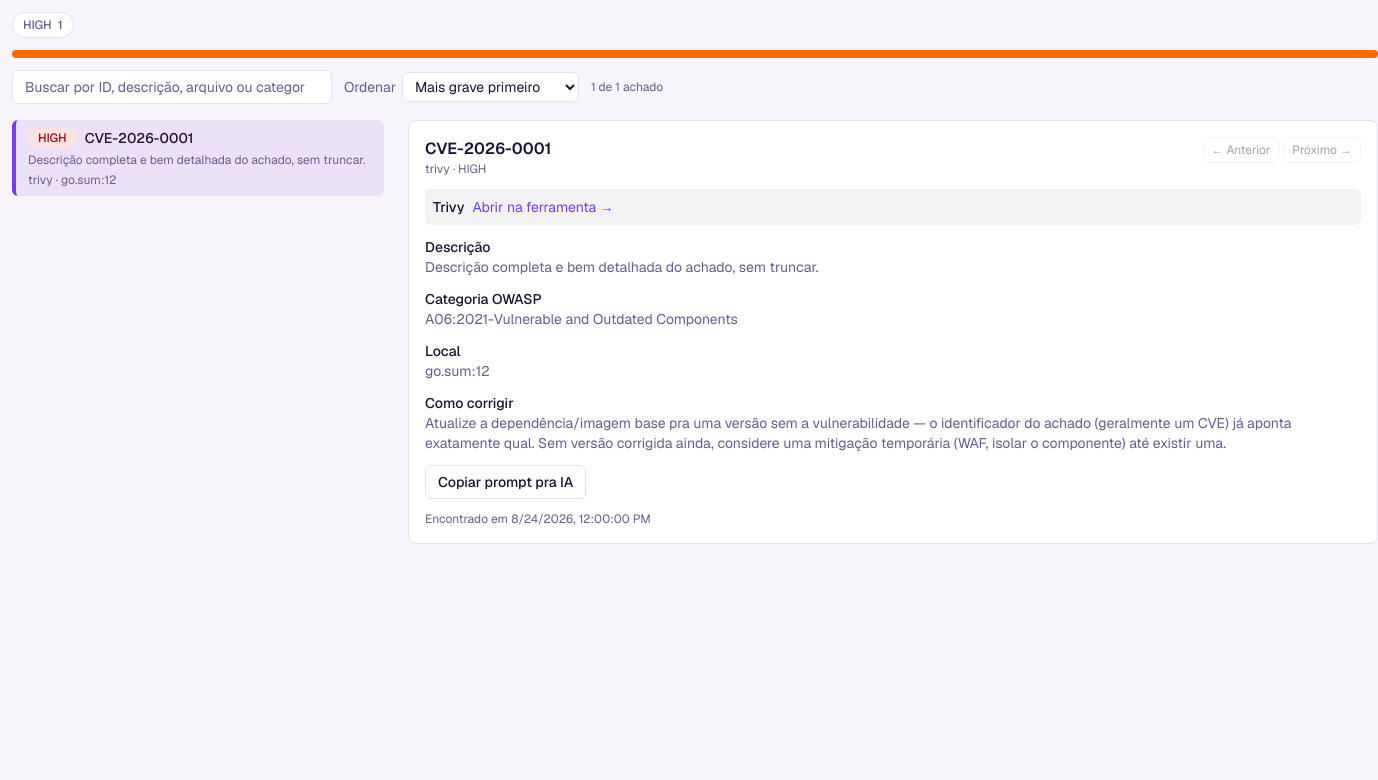
Test case: FindingsTable › Copiar prompt pra IA: falha na cópia mostra um toast de erro em vez de travar
The width and height of the screenshot is (1378, 780).
Expected: the text "Como corrigir" is shown, [425, 394, 514, 412]
Click the button "Copiar prompt pra IA".
click(506, 482)  # box [425, 465, 586, 499]
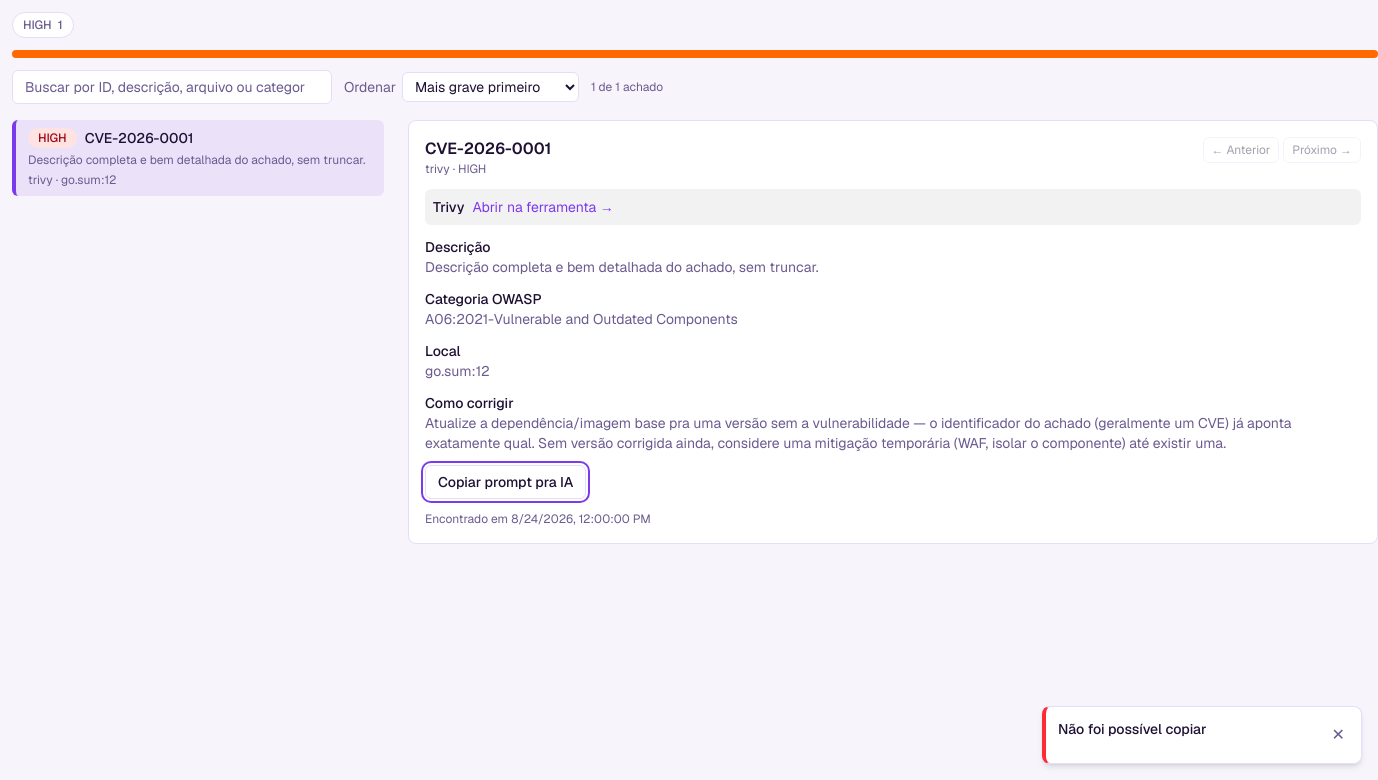
Result: the text "Não foi possível copiar" is shown at [1058, 719, 1206, 739]
